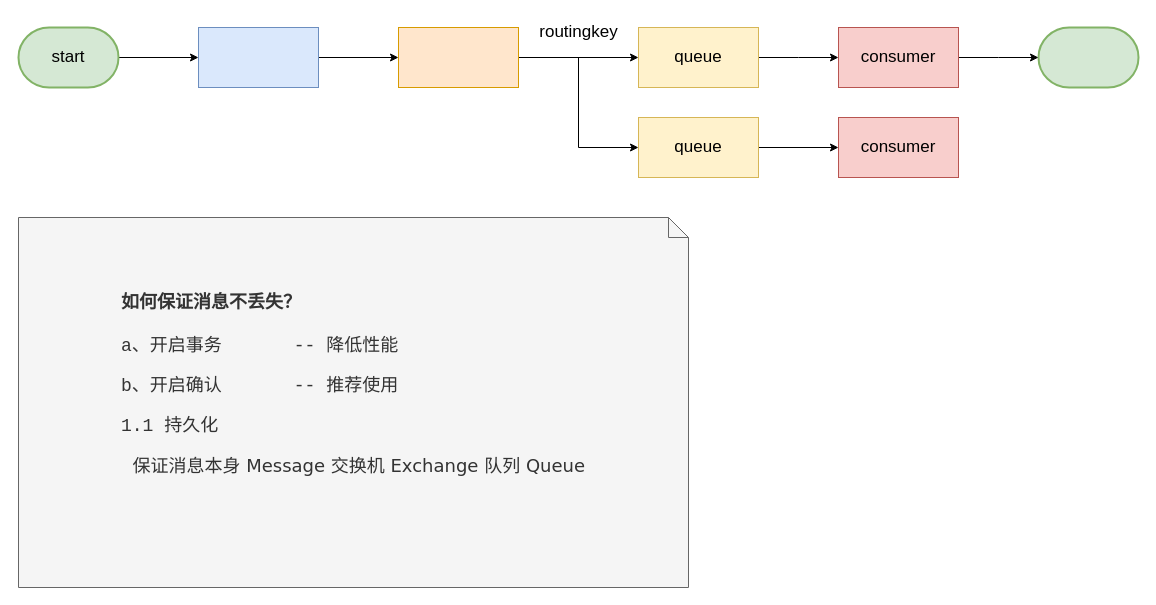
Image size: 1156x605. Some labels were removed from this diagram. The shapes that lost their labels are listed below. From the top down, each one's centre as x and y in pixels, then its label:
At pixel 258 57: "product".
At pixel 458 57: "exchange".
At pixel 1088 57: "end".
